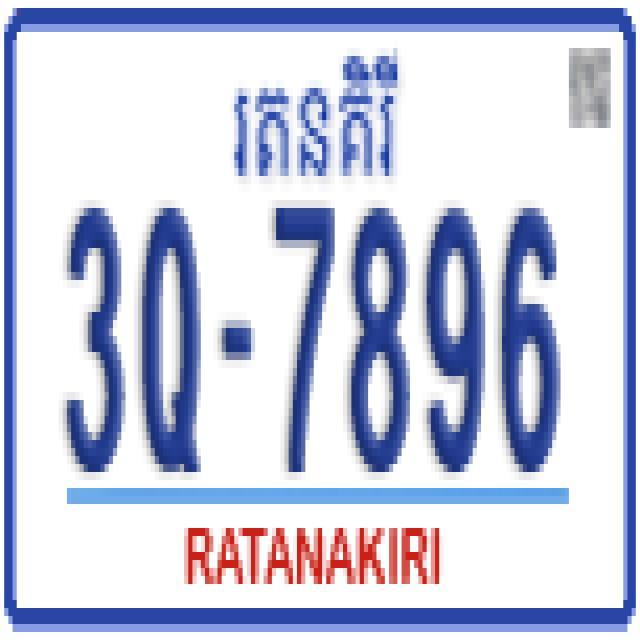Ratanakiri: (228, 41, 402, 185)
